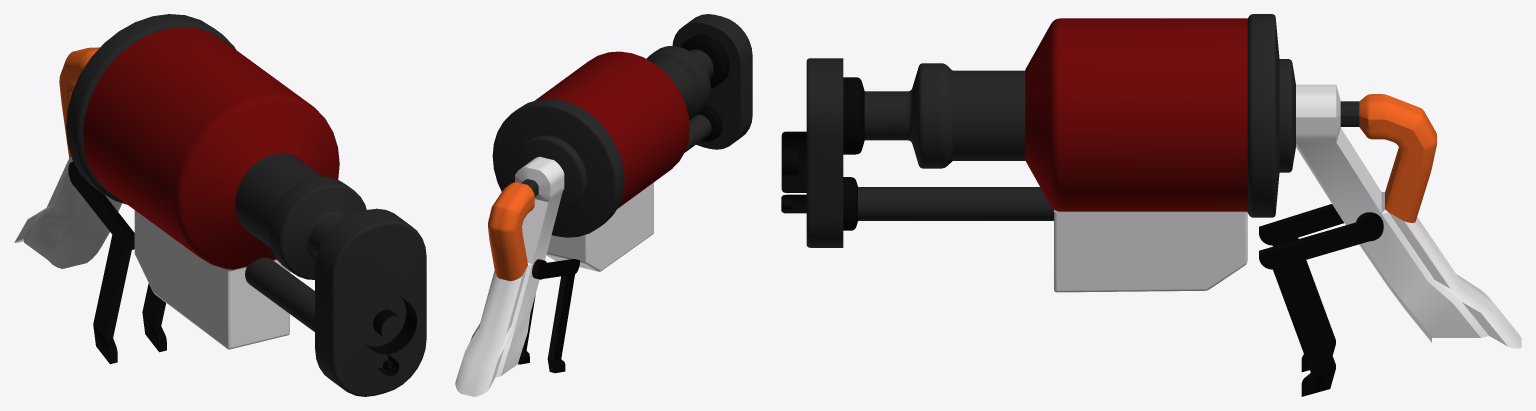
File: Dart gun.fbx
3 views of the same model, side by side, from view 1: azimuth 30°, elevation 25°; view 2: azimuth 150°, elevation 25°; view 3: azimuth 270°, elevation 25° (orthographic). The views are drawn at different scales.
Parts seen in each view (by area): view 1: Cylinder; view 2: Cylinder; view 3: Cylinder.
Part boxes in pixels (x1,y1,x2,y2): Cylinder: (14, 14, 426, 396); Cylinder: (455, 14, 752, 396); Cylinder: (781, 14, 1521, 396).
Size of the model in its own units: 211 by 410 by 766.
